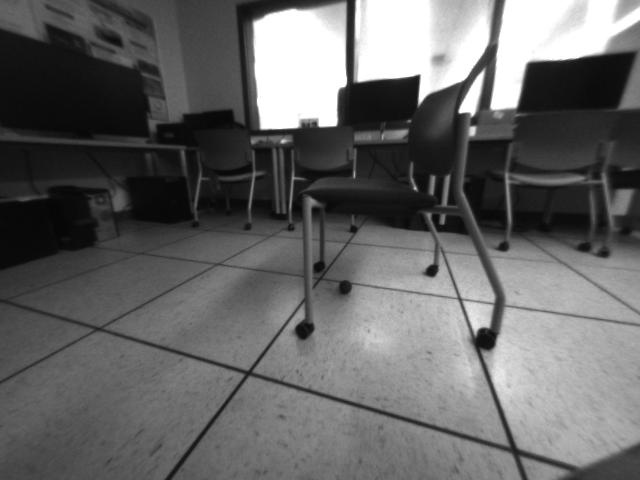dogtoy: (331, 272, 358, 299)
